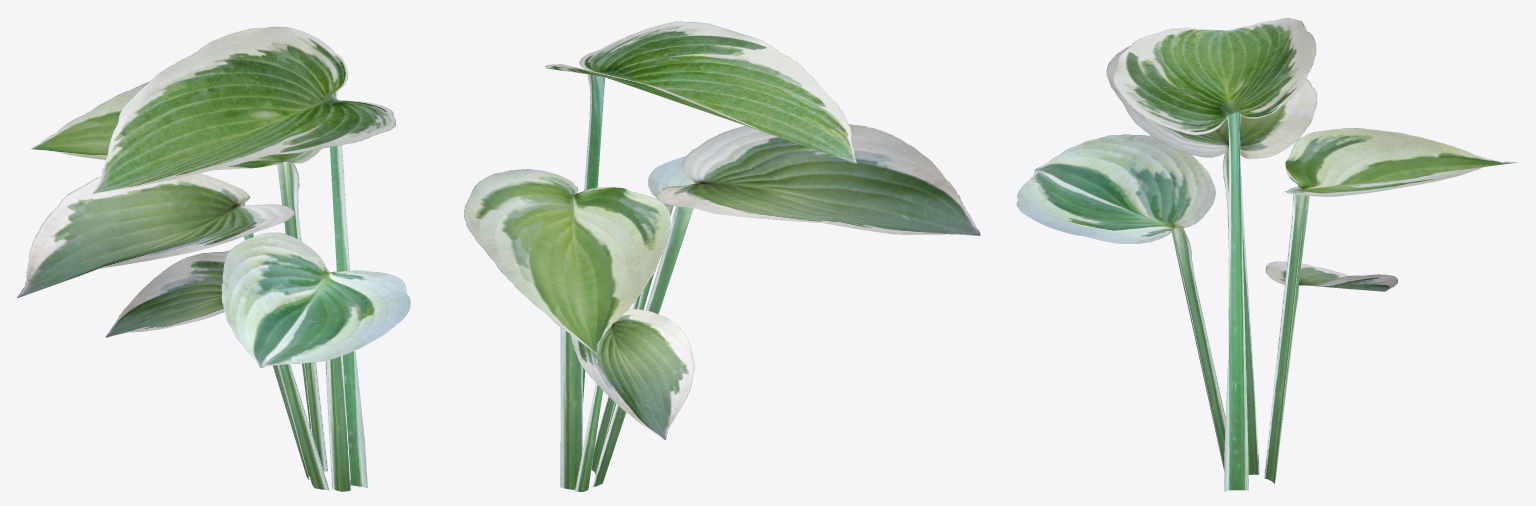
File: plant_small_wg_00_line_filler_09.fbx
The picture shows the model from 3 angles, left to right: view 1: azimuth 30°, elevation 25°; view 2: azimuth 150°, elevation 25°; view 3: azimuth 270°, elevation 25°; orthographic projection. The views are drawn at different scales.
Parts seen in each view (by area): view 1: plant_small_wg_00_line_filler_09; view 2: plant_small_wg_00_line_filler_09; view 3: plant_small_wg_00_line_filler_09.
Part boxes in pixels (bbox=[...]): plant_small_wg_00_line_filler_09: bbox=[17, 26, 410, 491]; plant_small_wg_00_line_filler_09: bbox=[463, 21, 980, 491]; plant_small_wg_00_line_filler_09: bbox=[1016, 18, 1517, 491].
Size of the model in its own units: 32.97 by 32.31 by 36.23.
1 material, 1 textured.
